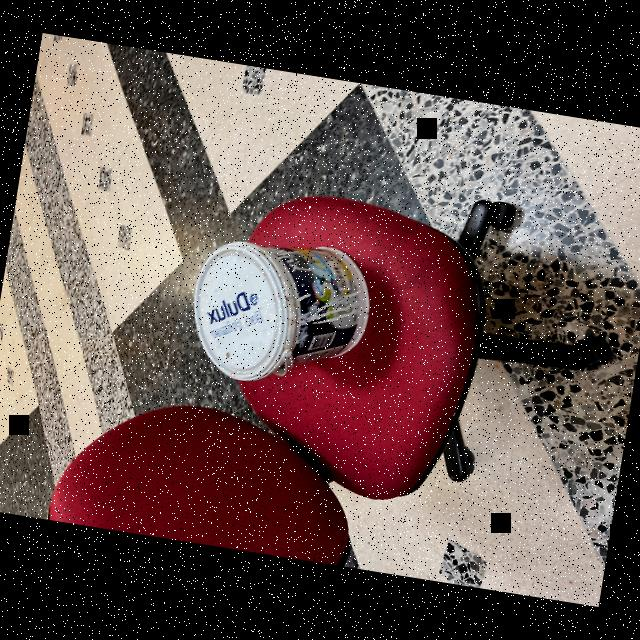paint_bucket: (175, 212, 394, 404)
